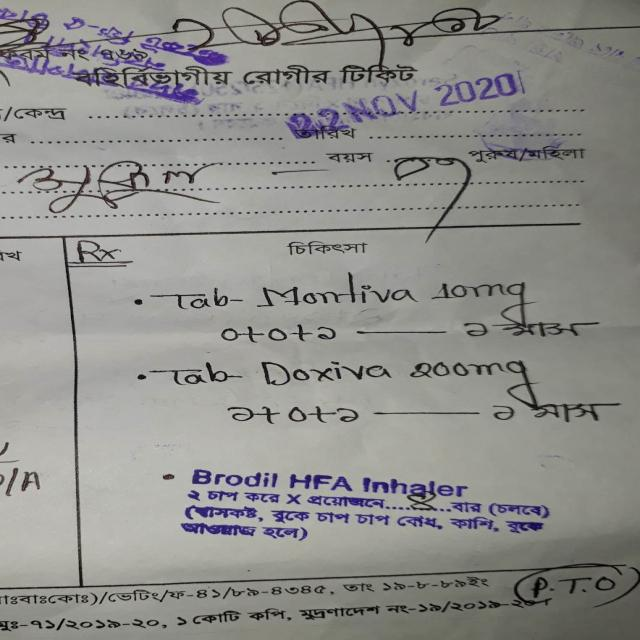Doxiva: (250, 355, 404, 389)
Montiva: (246, 276, 426, 313)
